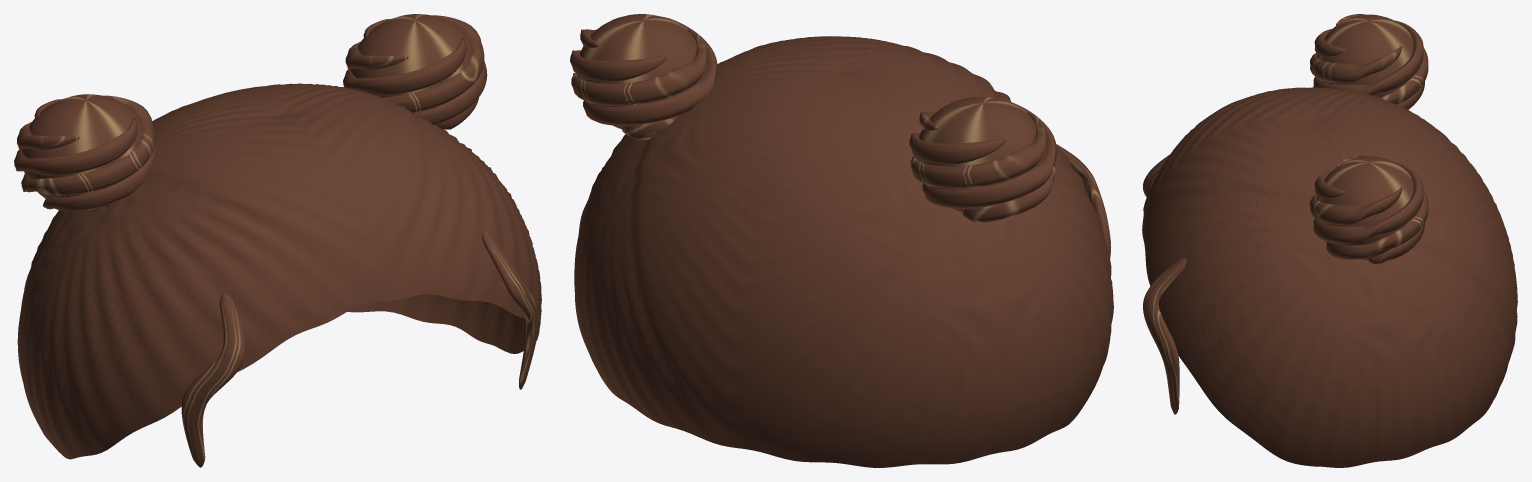
Rendered from Highlights-1196bdd12c81252-hair.glb.
3 renders of one model, left to right at view 1: azimuth 30°, elevation 25°; view 2: azimuth 150°, elevation 25°; view 3: azimuth 270°, elevation 25°, orthographic. The views are drawn at different scales.
Parts seen in each view (by area): view 1: 226 hair / Hair / chestnut226; view 2: 226 hair / Hair / chestnut226; view 3: 226 hair / Hair / chestnut226.
Boxes of the visible parts, left/top/right/bottom form: 226 hair / Hair / chestnut226: left=14, top=14, right=541, bottom=467; 226 hair / Hair / chestnut226: left=570, top=14, right=1113, bottom=467; 226 hair / Hair / chestnut226: left=1142, top=14, right=1517, bottom=467.
Size of the model in its own units: 0.9988 by 0.6556 by 0.7845.
1 material, 1 textured.
